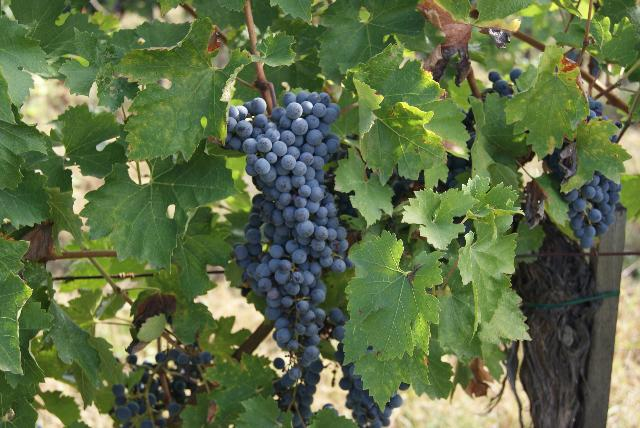grapes: (232, 194, 348, 428), (226, 91, 352, 276)
